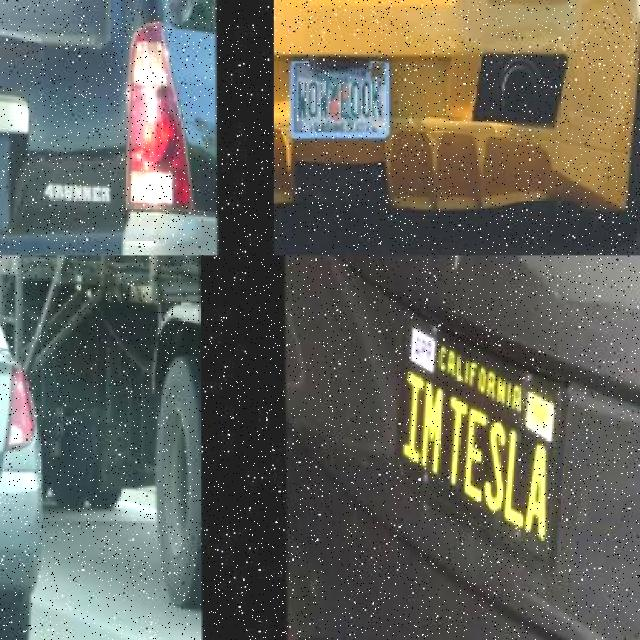licenseplate: (392, 318, 566, 567), (289, 61, 390, 141), (0, 132, 42, 226), (0, 405, 31, 460)
